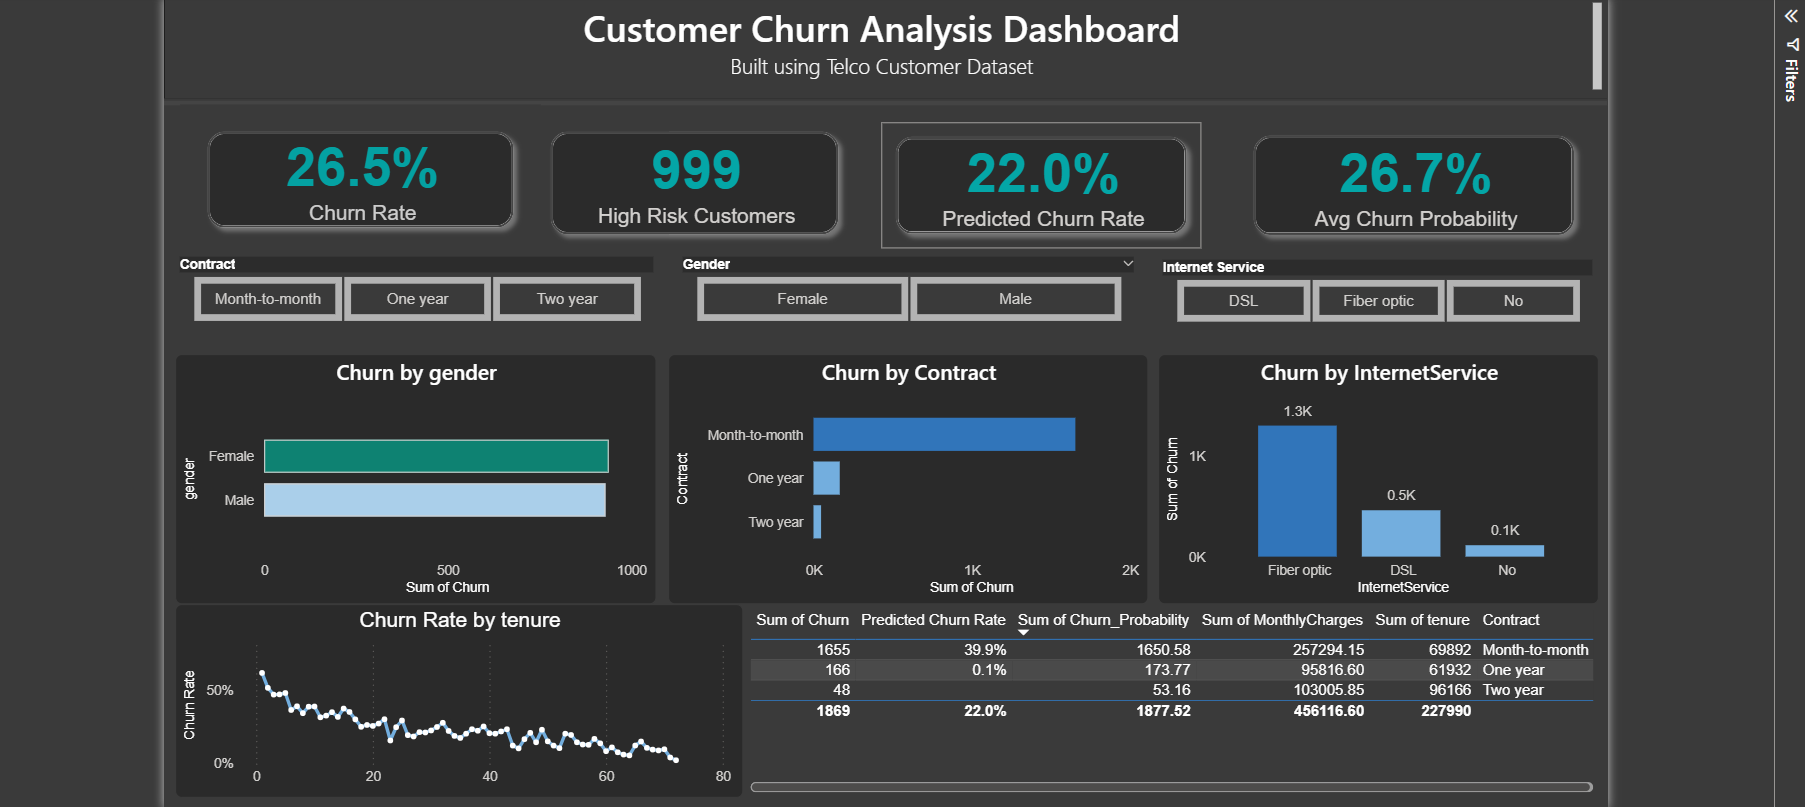

The page's visual inventory and layout, read from the dashboard file:
{"tool":"powerbi","page":{"name":"Page 1","canvas":[1280,720],"ordinal":0},"visuals":[{"type":"cardVisual","fields":{"Data":["telco_for_powerbi.Churn Rate"]},"box":[0,90.4,330,150],"z":0},{"type":"cardVisual","fields":{"Data":["telco_for_powerbi.Predicted Churn Rate"]},"box":[618.9,94,318.3,146.3],"z":1000},{"type":"cardVisual","fields":{"Data":["telco_for_powerbi.Avg Churn Probability"]},"box":[937.2,94,342.3,146.3],"z":2000},{"type":"cardVisual","fields":{"Data":["telco_for_powerbi.High Risk Customers"]},"box":[313.9,90.4,313.9,149.9],"z":3000},{"type":"clusteredBarChart","title":"Churn by gender","fields":{"Category":["telco_for_powerbi.gender"],"Y":["Sum(telco_for_powerbi.Churn)"]},"box":[9.8,316.6,426.5,221.7],"z":4000},{"type":"clusteredBarChart","title":"Churn by Contract","fields":{"Category":["telco_for_powerbi.Contract"],"Y":["Sum(telco_for_powerbi.Churn)"]},"box":[446.9,316.6,425.6,221.7],"z":5000},{"type":"clusteredColumnChart","title":"Churn by InternetService","fields":{"Category":["telco_for_powerbi.InternetService"],"Y":["Sum(telco_for_powerbi.Churn)"]},"box":[881.4,316.6,391,221.7],"z":6000},{"type":"lineChart","fields":{"Category":["telco_for_powerbi.tenure"],"Y":["telco_for_powerbi.Churn Rate"]},"box":[9.8,538.2,503.6,172],"z":7000},{"type":"slicer","fields":{"Values":["telco_for_powerbi.Contract"]},"box":[0.9,225.2,446,69.2],"z":8000},{"type":"slicer","fields":{"Values":["telco_for_powerbi.gender"]},"box":[446.9,225.2,425.6,69.2],"z":9000},{"type":"slicer","fields":{"Values":["telco_for_powerbi.InternetService"]},"box":[872.5,227.9,407,63],"z":10000},{"type":"textbox","box":[0,0,1279.7,77.9],"z":11000},{"type":"shape","box":[0,3.6,1279.7,180.9],"z":12000},{"type":"shape","box":[0,0,1279.5,90.4],"z":13000},{"type":"textbox","box":[0.9,0,1278.6,90.4],"z":14000},{"type":"cardVisual","fields":{"Data":["telco_for_powerbi.Churn Rate"]},"box":[9.8,90.4,329.9,143.6],"z":15000},{"type":"cardVisual","fields":{"Data":["telco_for_powerbi.Churn Rate"]},"box":[9.8,90.4,329.9,143.6],"z":16000},{"type":"tableEx","fields":{"Values":["Sum(telco_for_powerbi.Churn)","telco_for_powerbi.Predicted Churn Rate","Sum(telco_for_powerbi.Churn_Probability)","Sum(telco_for_powerbi.MonthlyCharges)","Sum(telco_for_powerbi.tenure)","telco_for_powerbi.Contract"]},"box":[514.3,539.1,758.1,171.1],"z":17000}]}

Visuals, with their boxes on the page's 1280x720 design canvas (x1, y1, x2, y2). These are canvas units, not pixel positions in the 1805x807 screenshot, which may show the page scaled, cropped or inside an application window:
cardVisual - telco_for_powerbi.Churn Rate: pyautogui.locateOnScreen(0, 90, 330, 240)
cardVisual - telco_for_powerbi.Predicted Churn Rate: pyautogui.locateOnScreen(619, 94, 937, 240)
cardVisual - telco_for_powerbi.Avg Churn Probability: pyautogui.locateOnScreen(937, 94, 1280, 240)
cardVisual - telco_for_powerbi.High Risk Customers: pyautogui.locateOnScreen(314, 90, 628, 240)
"Churn by gender" clusteredBarChart: pyautogui.locateOnScreen(10, 317, 436, 538)
"Churn by Contract" clusteredBarChart: pyautogui.locateOnScreen(447, 317, 872, 538)
"Churn by InternetService" clusteredColumnChart: pyautogui.locateOnScreen(881, 317, 1272, 538)
lineChart - telco_for_powerbi.tenure x telco_for_powerbi.Churn Rate: pyautogui.locateOnScreen(10, 538, 513, 710)
slicer - telco_for_powerbi.Contract: pyautogui.locateOnScreen(1, 225, 447, 294)
slicer - telco_for_powerbi.gender: pyautogui.locateOnScreen(447, 225, 872, 294)
slicer - telco_for_powerbi.InternetService: pyautogui.locateOnScreen(872, 228, 1280, 291)
textbox: pyautogui.locateOnScreen(0, 0, 1280, 78)
shape: pyautogui.locateOnScreen(0, 4, 1280, 184)
shape: pyautogui.locateOnScreen(0, 0, 1280, 90)
textbox: pyautogui.locateOnScreen(1, 0, 1280, 90)
cardVisual - telco_for_powerbi.Churn Rate: pyautogui.locateOnScreen(10, 90, 340, 234)
cardVisual - telco_for_powerbi.Churn Rate: pyautogui.locateOnScreen(10, 90, 340, 234)
tableEx - Sum(telco_for_powerbi.Churn) x telco_for_powerbi.Predicted Churn Rate: pyautogui.locateOnScreen(514, 539, 1272, 710)
